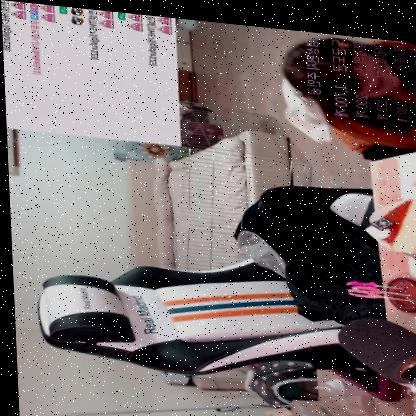streamer: (276, 23, 416, 157)
